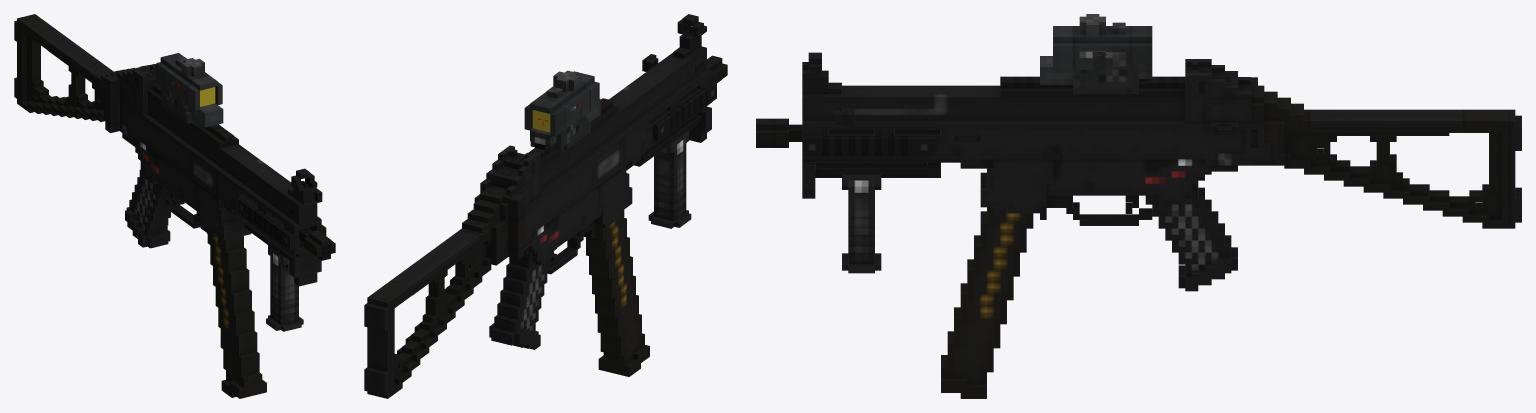
File: RD_UMP45_ANARCHY.glb
3 views of the same model, side by side, from view 1: azimuth 30°, elevation 25°; view 2: azimuth 150°, elevation 25°; view 3: azimuth 270°, elevation 25° (orthographic). The views are drawn at different scales.
Parts seen in each view (by area): view 1: HK_UMP45, HK_UMP45_CLIP, SCOPE_TASCO, GRIP1, SCOPE_EOTECH; view 2: HK_UMP45, HK_UMP45_CLIP, SCOPE_TASCO, GRIP1, SCOPE_EOTECH, SCOPE_AIMPOINT; view 3: HK_UMP45, HK_UMP45_CLIP, SCOPE_TASCO, GRIP1, SCOPE_EOTECH.
Part boxes in pixels (bbox=[...]): HK_UMP45: bbox=[14, 14, 335, 286]; HK_UMP45_CLIP: bbox=[207, 234, 266, 398]; SCOPE_TASCO: bbox=[156, 53, 222, 122]; GRIP1: bbox=[266, 245, 303, 331]; SCOPE_EOTECH: bbox=[161, 79, 223, 127]; HK_UMP45: bbox=[364, 14, 727, 398]; HK_UMP45_CLIP: bbox=[586, 210, 649, 376]; SCOPE_TASCO: bbox=[524, 70, 599, 151]; GRIP1: bbox=[648, 130, 691, 228]; SCOPE_EOTECH: bbox=[530, 98, 600, 153]; SCOPE_AIMPOINT: bbox=[530, 101, 581, 150]; HK_UMP45: bbox=[756, 52, 1521, 291]; HK_UMP45_CLIP: bbox=[941, 207, 1033, 398]; SCOPE_TASCO: bbox=[1053, 14, 1152, 93]; GRIP1: bbox=[842, 174, 881, 273]; SCOPE_EOTECH: bbox=[1040, 52, 1138, 93].
Size of the model in its own units: 0.1083 by 0.6102 by 1.14.
Materials: 8 (8 with a texture image).
